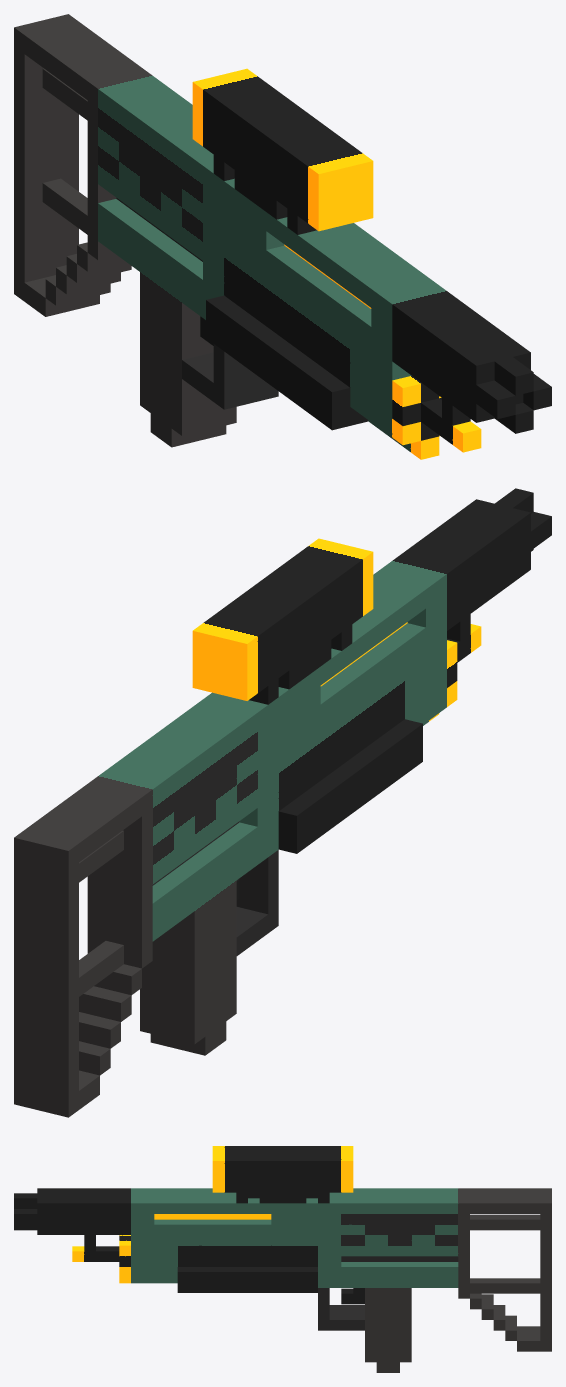
Rendered from BurstCannon.dae.
3 views of the same model, one above another, from view 1: azimuth 30°, elevation 25°; view 2: azimuth 150°, elevation 25°; view 3: azimuth 270°, elevation 25° (orthographic). The views are drawn at different scales.
Parts seen in each view (by area): view 1: BurstCannon; view 2: BurstCannon; view 3: BurstCannon.
Boxes of the visible parts, x1,y1,x2,y2 form: BurstCannon: [14, 14, 551, 459]; BurstCannon: [14, 488, 551, 1117]; BurstCannon: [14, 1146, 551, 1372].
Bounding box in the file's own units: 5 × 20 × 46.
1 material, 1 textured.
